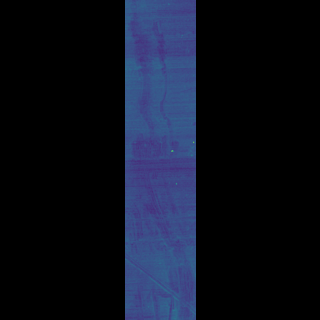Loch: (151, 174, 168, 320), (151, 17, 163, 161)
